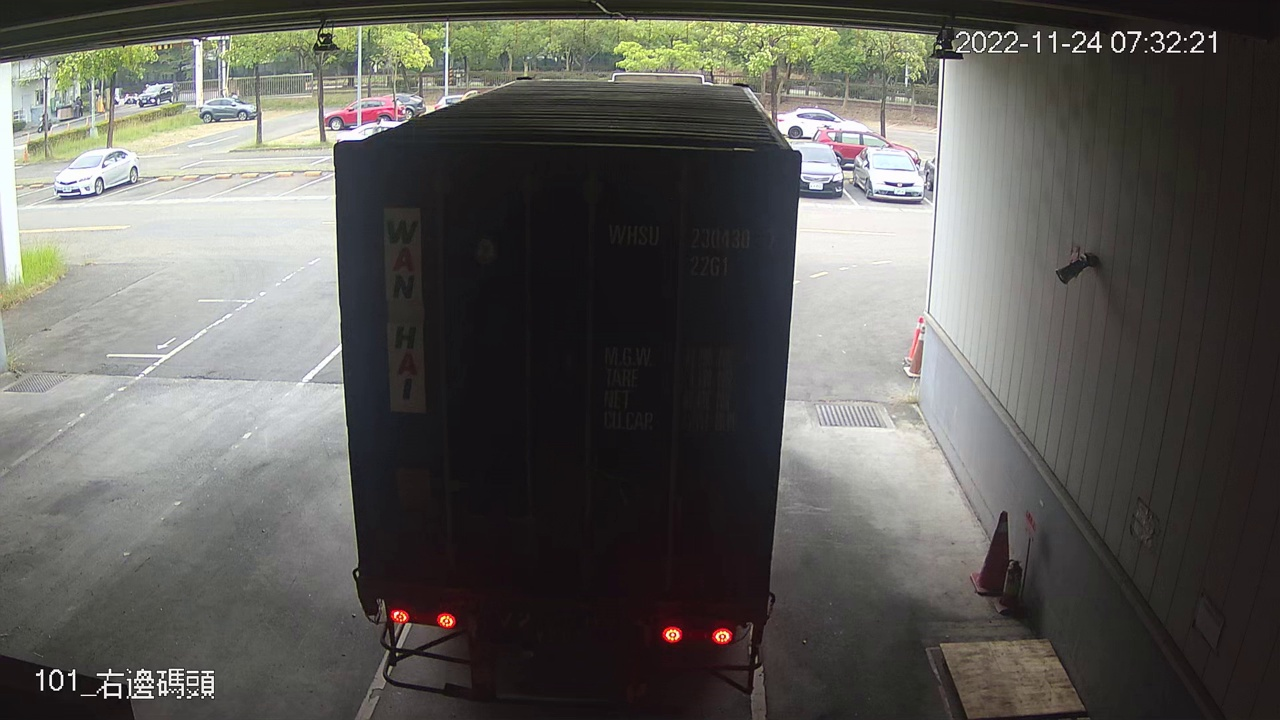container: (601, 219, 783, 282)
